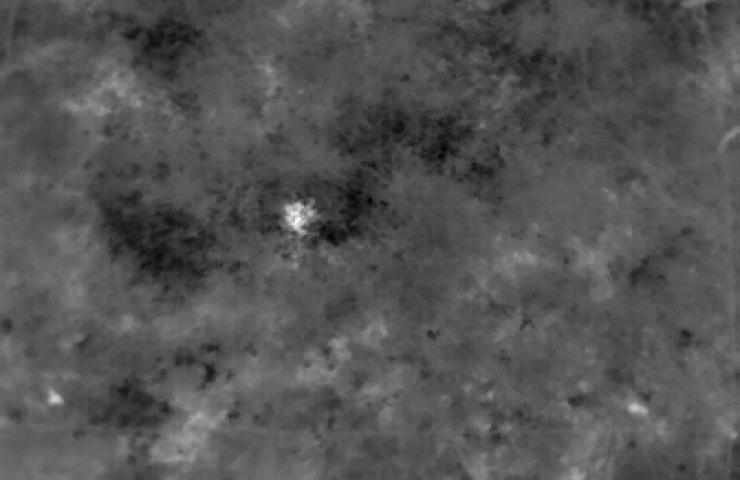landmines: (282, 202, 327, 236)
